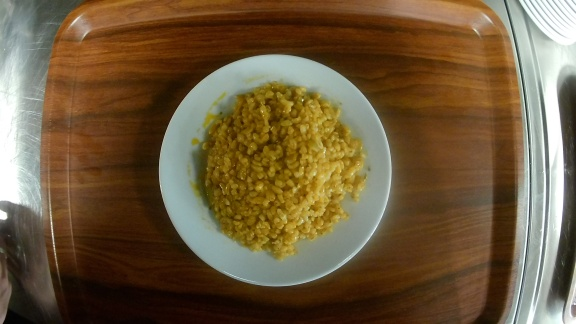bulgur: (159, 54, 391, 287)
